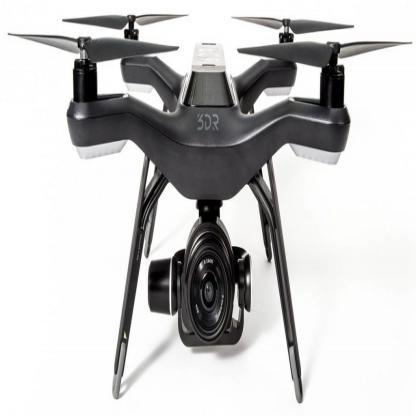drone: (10, 10, 416, 194)
